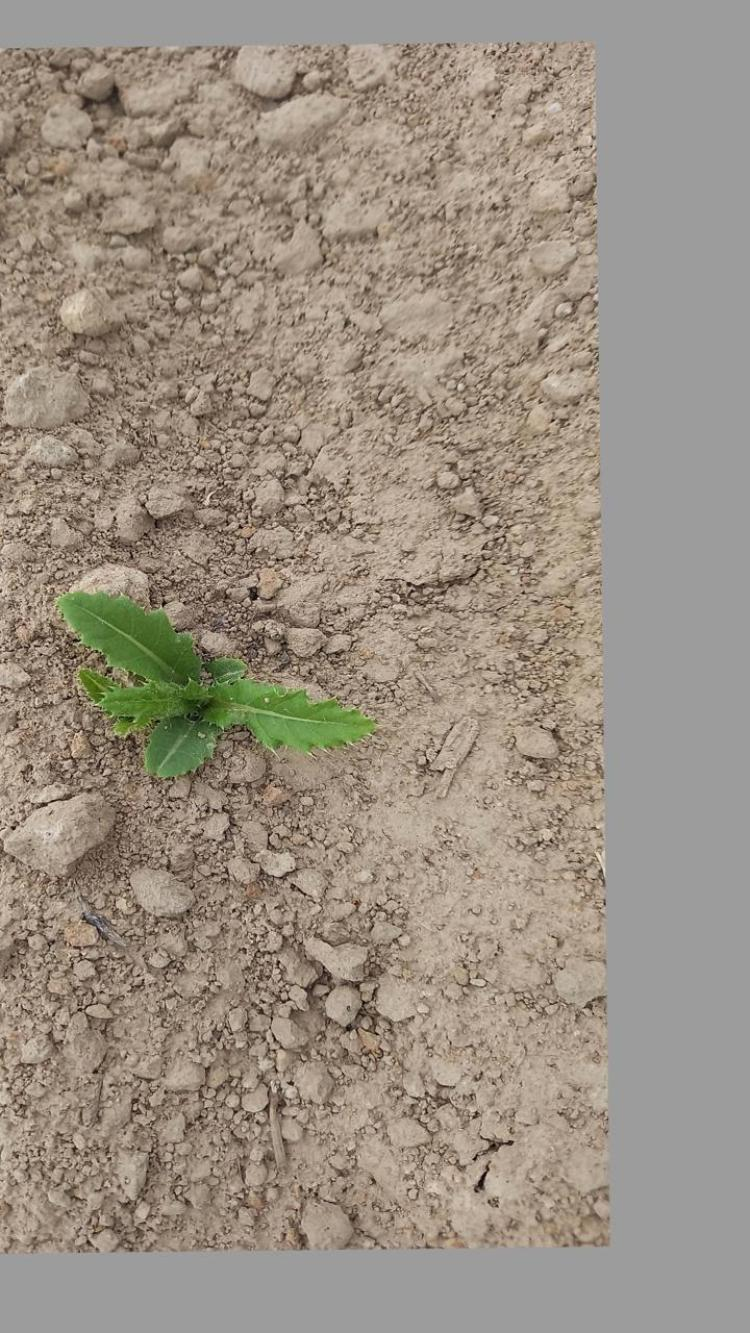bodyak: (52, 583, 383, 792)
